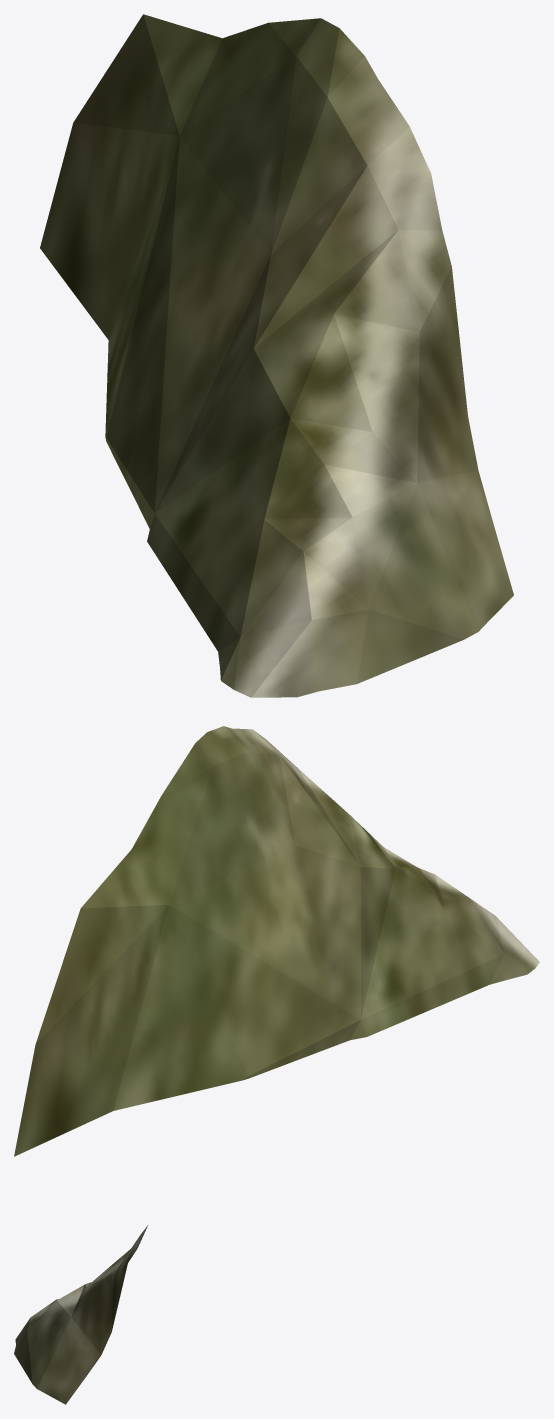
The picture shows the model from 3 angles, top to bottom: view 1: azimuth 30°, elevation 25°; view 2: azimuth 150°, elevation 25°; view 3: azimuth 270°, elevation 25°; orthographic projection. The views are drawn at different scales.
Bounding box in the file's own units: 0.4828 × 0.6588 × 1.43.
1 material, 1 textured.
